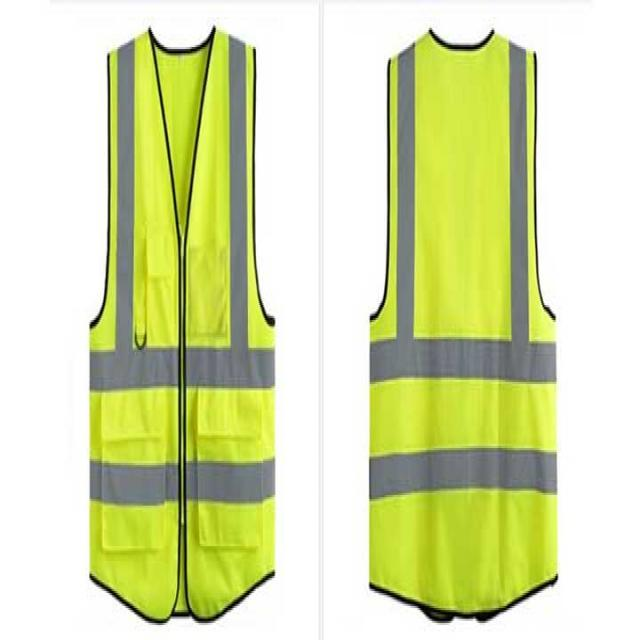reflective_jacket: (354, 23, 568, 620), (76, 21, 286, 624)
